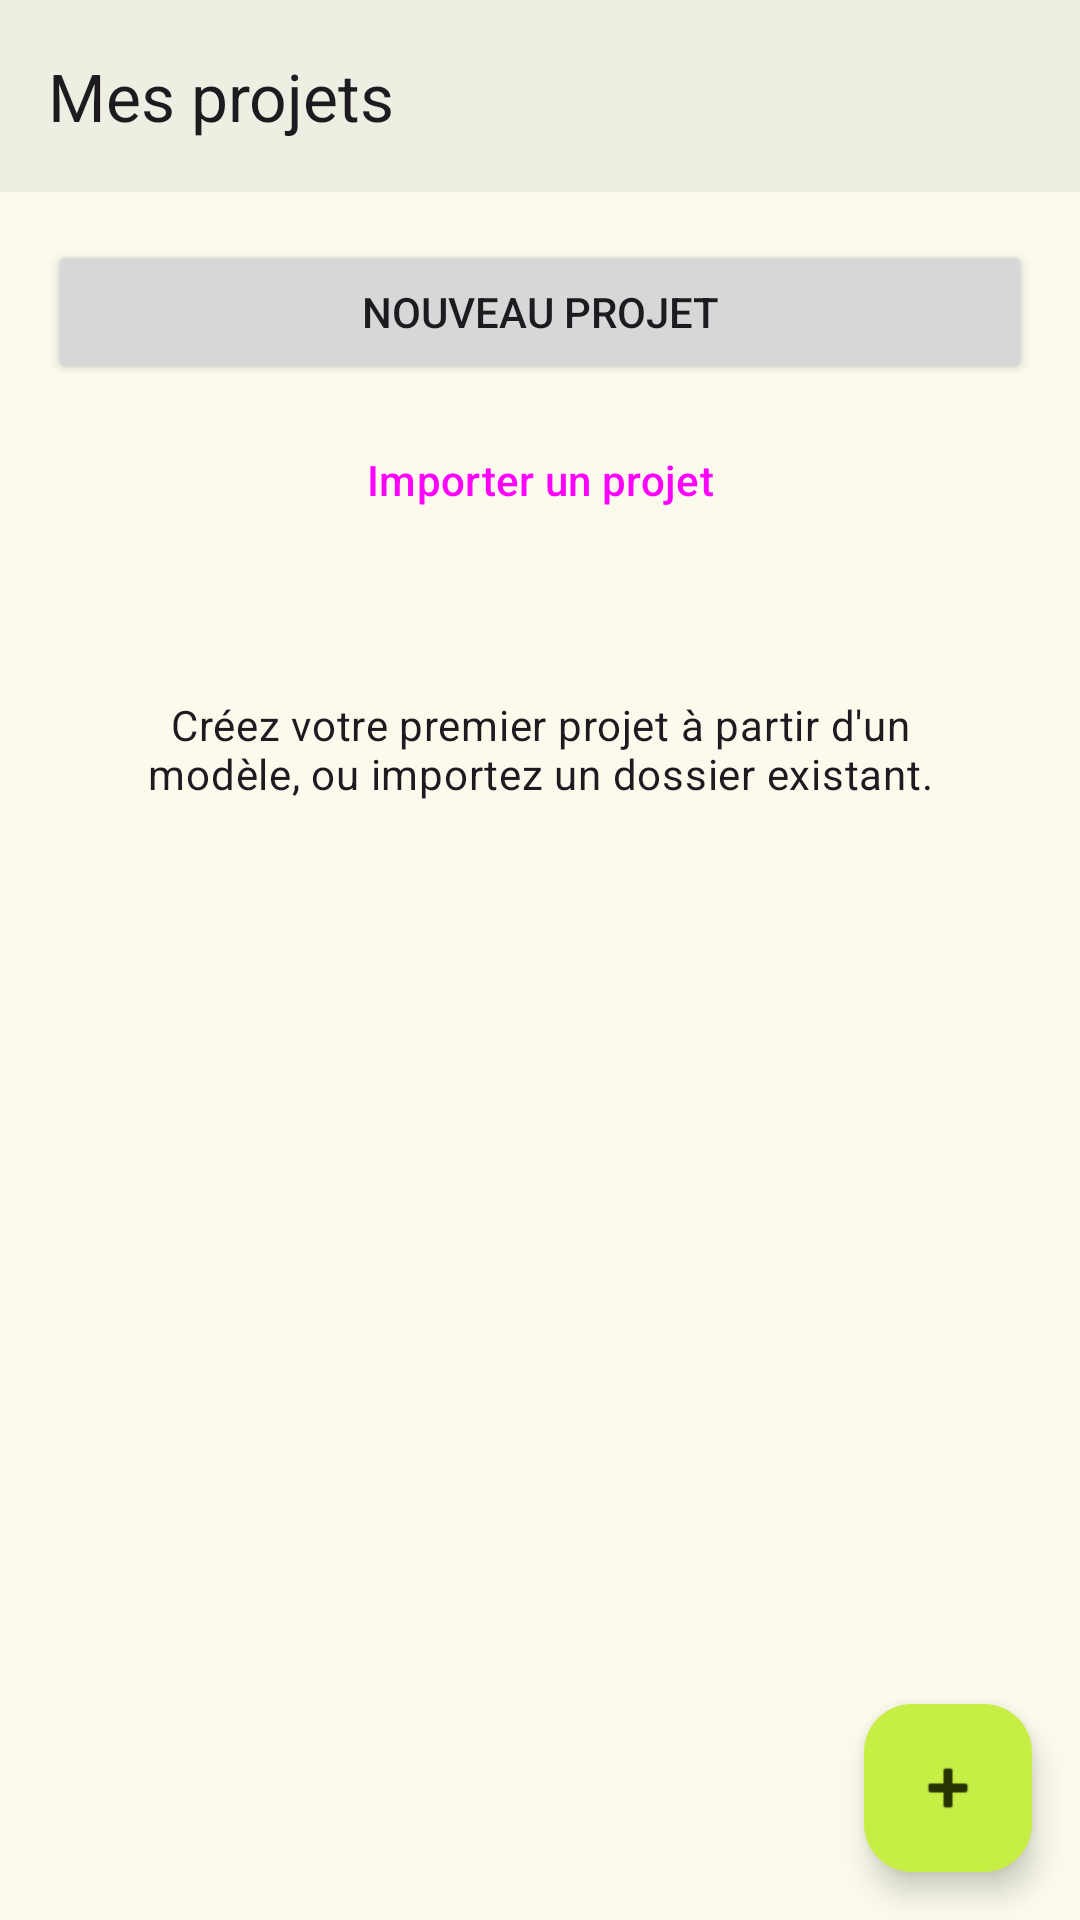

Icons on this 1080px x 1920px Android screen, each with the point to tap as point (x, y):
Nouveau projet: point (948, 1788)
